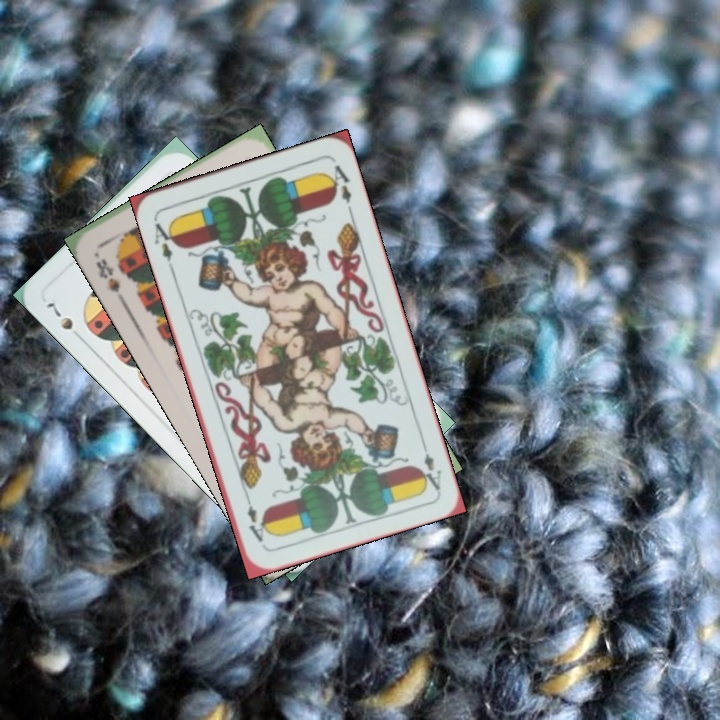EA: (150, 215, 180, 272), (416, 435, 444, 493)
S7: (42, 298, 86, 344)
S8: (92, 254, 126, 303)
